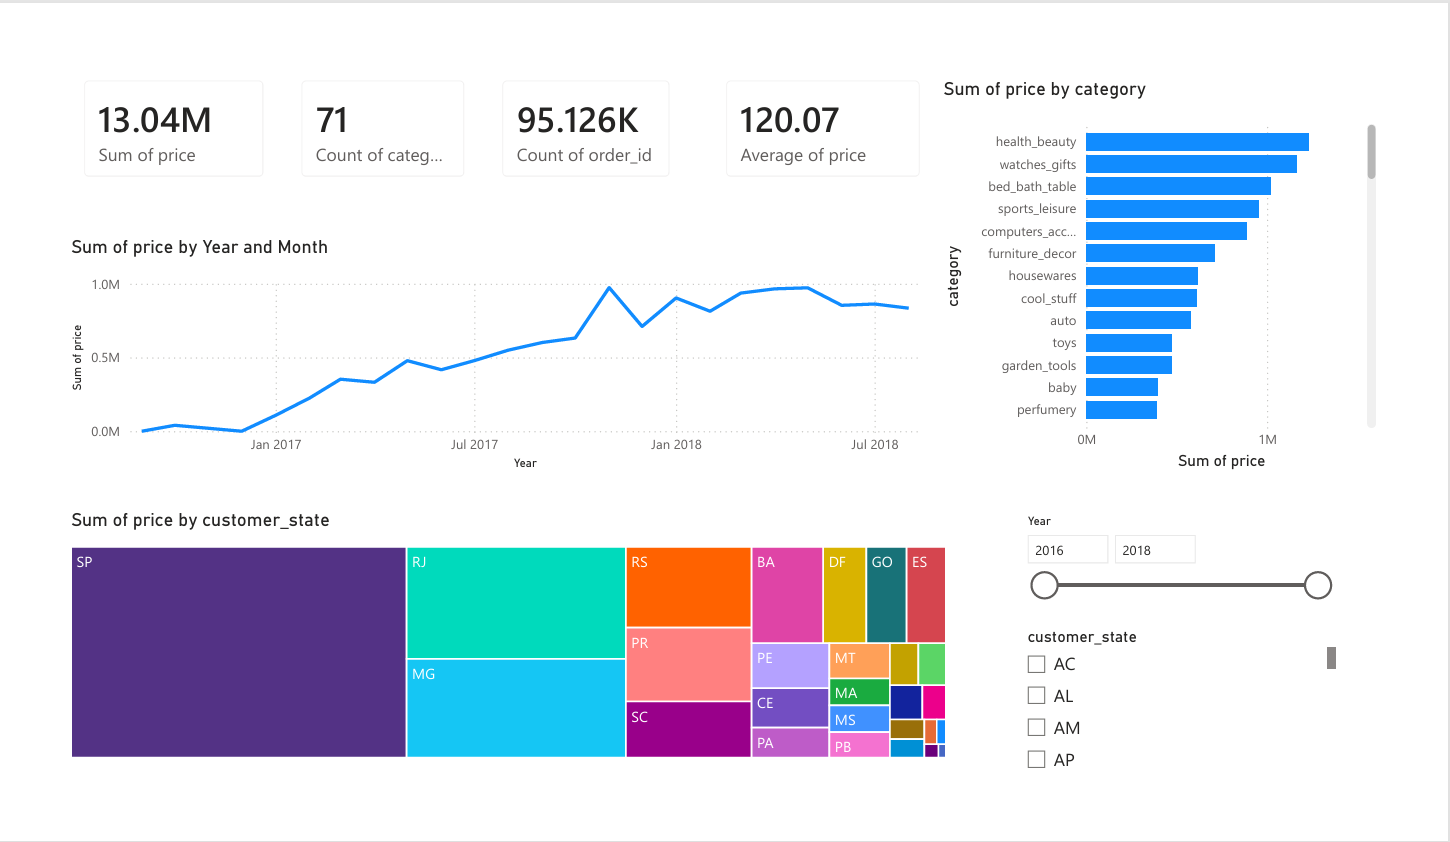

The dashboard page shown, as its layout file describes it:
{"tool":"powerbi","page":{"name":"Sales Overview","canvas":[1280,720],"ordinal":0},"visuals":[{"type":"cardVisual","fields":{"Data":["Sum(FactSales.price)"]},"box":[38.4,30.2,199,122.1],"z":0},{"type":"cardVisual","fields":{"Data":["Avg(FactSales.price)"]},"box":[625.7,30.2,211.3,122.1],"z":1000},{"type":"cardVisual","fields":{"Data":["Count(FactSales.order_id)"]},"box":[421.3,30.2,188,122.1],"z":2000},{"type":"cardVisual","fields":{"Data":["Count(FactSales.category)"]},"box":[237.4,30.2,183.9,122.1],"z":3000},{"type":"lineChart","fields":{"Y":["Sum(FactSales.price)"],"Category":["FactSales.purchase_ts.Variation.Date Hierarchy.Year","FactSales.purchase_ts.Variation.Date Hierarchy.Month"]},"box":[38.4,189.4,798.6,218.2],"z":4000},{"type":"clusteredBarChart","fields":{"Category":["FactSales.category"],"Y":["Sum(FactSales.price)"]},"box":[837.1,43.9,406.2,363.6],"z":5000},{"type":"treemap","fields":{"Group":["FactSales.customer_state"],"Values":["Sum(FactSales.price)"]},"box":[38.4,439.1,811,233.3],"z":5001},{"type":"slicer","fields":{"Values":["FactSales.purchase_ts.Variation.Date Hierarchy.Year"]},"box":[905.7,439.1,300.5,104.3],"z":5002},{"type":"slicer","fields":{"Values":["FactSales.customer_state"]},"box":[906,543,301,150],"z":5003}]}

Visuals, with their boxes on the page's 1280x720 design canvas (x1, y1, x2, y2). These are canvas units, not pixel positions in the 1450x842 screenshot, which may show the page scaled, cropped or inside an application window:
cardVisual - Sum(FactSales.price): Rect(38, 30, 237, 152)
cardVisual - Avg(FactSales.price): Rect(626, 30, 837, 152)
cardVisual - Count(FactSales.order_id): Rect(421, 30, 609, 152)
cardVisual - Count(FactSales.category): Rect(237, 30, 421, 152)
lineChart - Sum(FactSales.price) x FactSales.purchase_ts.Variation.Date Hierarchy.Year: Rect(38, 189, 837, 408)
clusteredBarChart - FactSales.category x Sum(FactSales.price): Rect(837, 44, 1243, 408)
treemap - FactSales.customer_state x Sum(FactSales.price): Rect(38, 439, 849, 672)
slicer - FactSales.purchase_ts.Variation.Date Hierarchy.Year: Rect(906, 439, 1206, 543)
slicer - FactSales.customer_state: Rect(906, 543, 1207, 693)
